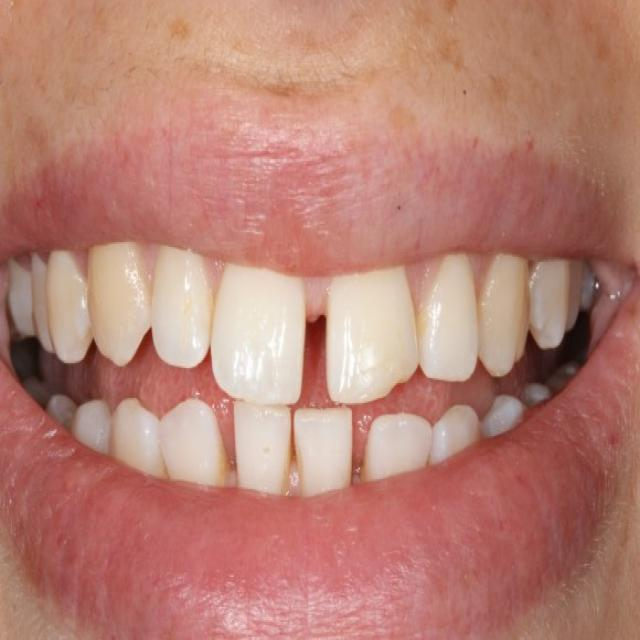Gap: (262, 294, 371, 405), (330, 407, 390, 484), (185, 415, 256, 475), (265, 415, 317, 483)
Healthy: (421, 254, 526, 381), (99, 251, 206, 363)
